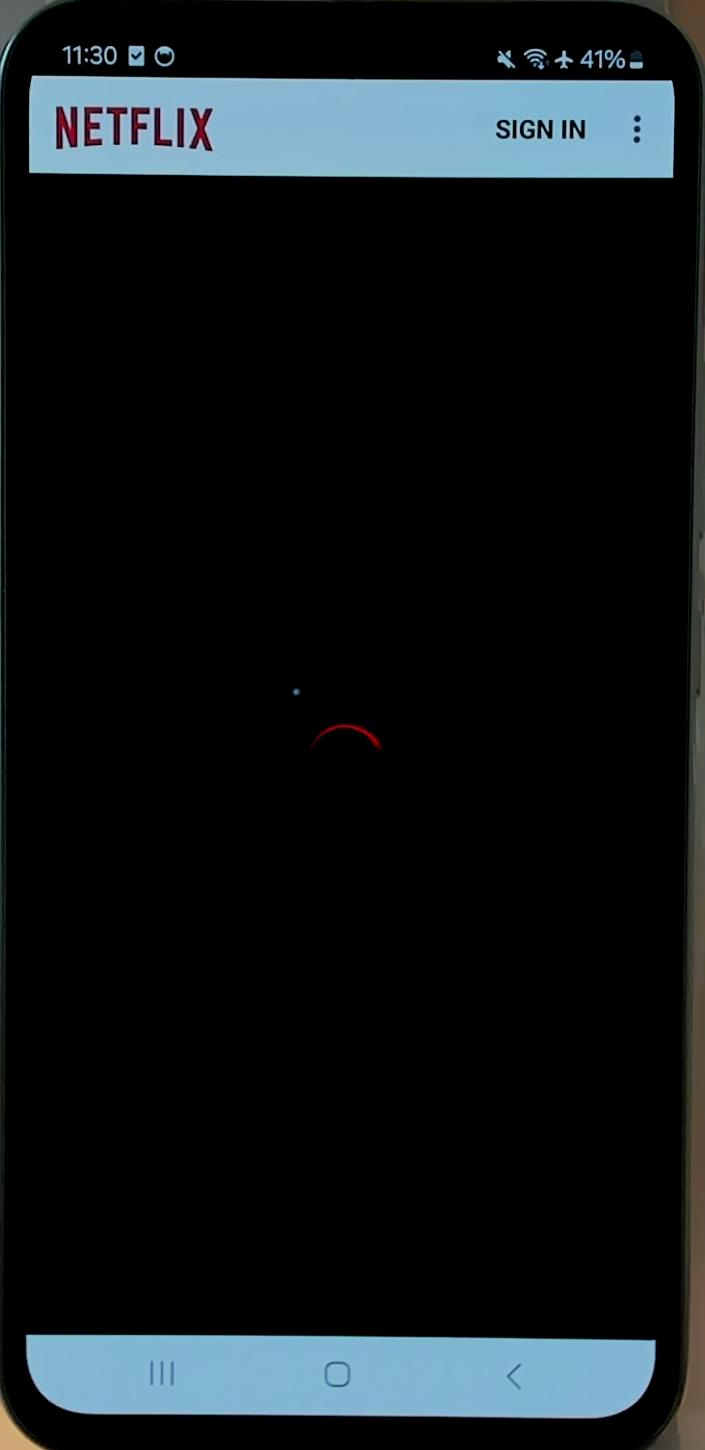CommunBotton: (478, 100, 604, 160), (308, 1344, 374, 1400), (136, 1348, 188, 1404), (486, 1348, 538, 1402)
menu: (628, 98, 650, 156)
